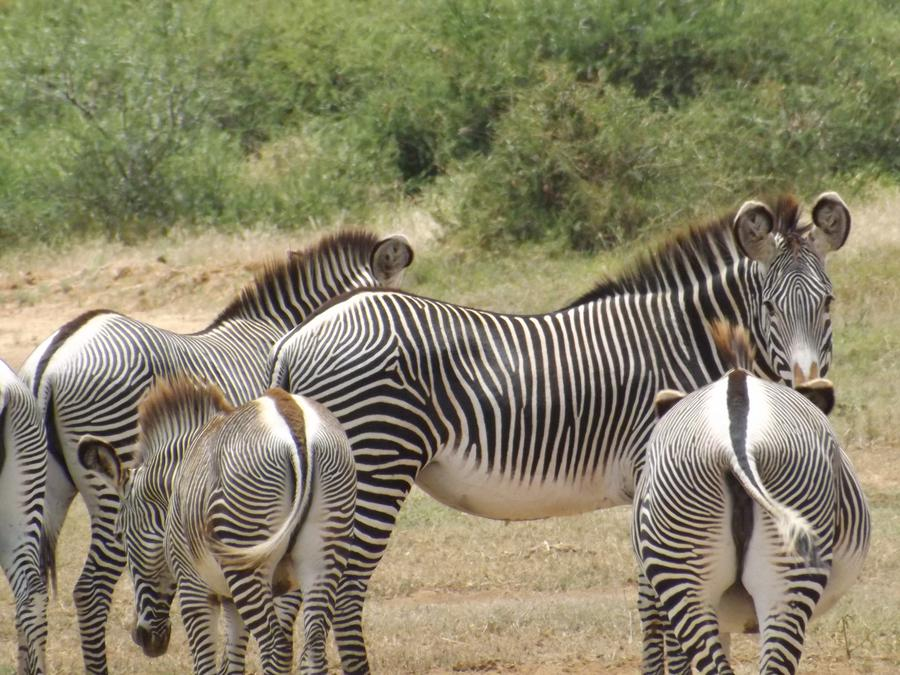zebra_grevys: (279, 287, 637, 464)
